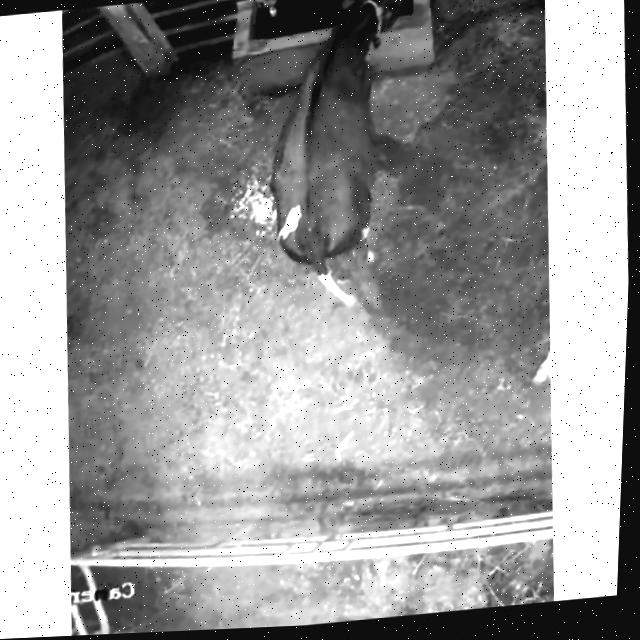drink: (279, 0, 435, 98)
